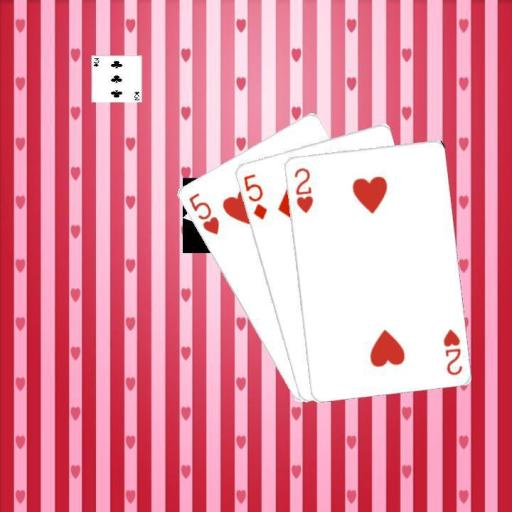card-corner: (185, 189, 220, 236), (240, 171, 268, 221), (290, 164, 314, 214), (440, 326, 464, 376)
